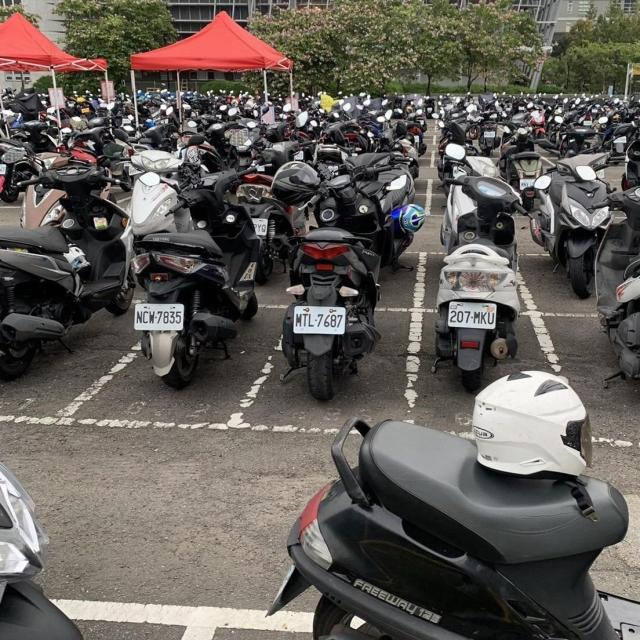W: (126, 298, 188, 335), (291, 302, 350, 336), (444, 297, 501, 332), (0, 159, 11, 178)
